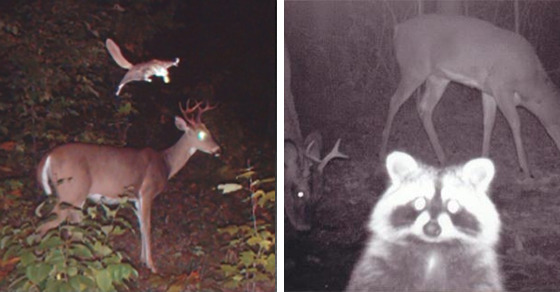deer: (31, 101, 229, 265), (386, 9, 559, 160), (286, 112, 324, 262)
raccoon: (339, 134, 511, 289)
